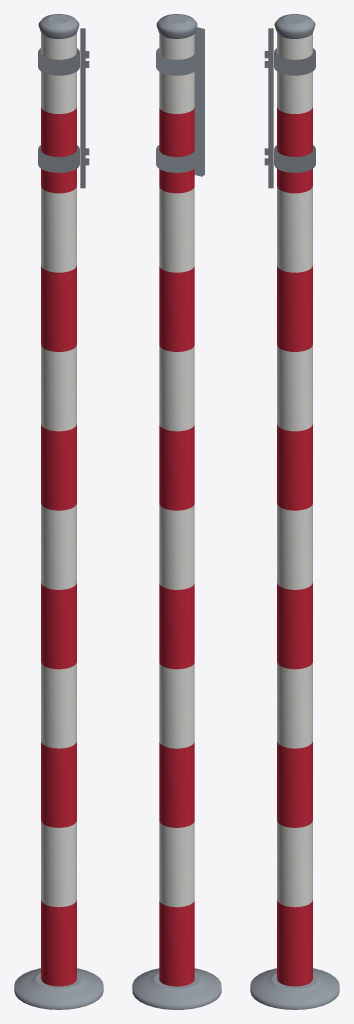
Rendered from sign-post.glb.
3 views of the same model, side by side, from view 1: azimuth 90°, elevation 25°; view 2: azimuth 150°, elevation 25°; view 3: azimuth 270°, elevation 25° (orthographic).
Parts seen in each view (by area): view 1: pole_red, pole_white, base_plate, bracket, cap; view 2: pole_red, pole_white, bracket, base_plate, cap; view 3: pole_red, pole_white, base_plate, bracket, cap.
Part boxes in pixels (left/top/right/bottom): pole_red: left=41, top=107, right=76, bottom=986; pole_white: left=41, top=33, right=76, bottom=907; base_plate: left=14, top=968, right=103, bottom=1009; bracket: left=38, top=28, right=89, bottom=188; cap: left=38, top=14, right=79, bottom=38; pole_red: left=159, top=108, right=194, bottom=986; pole_white: left=159, top=33, right=194, bottom=907; bracket: left=156, top=27, right=204, bottom=176; base_plate: left=132, top=968, right=221, bottom=1009; cap: left=156, top=14, right=197, bottom=38; pole_red: left=277, top=107, right=312, bottom=986; pole_white: left=277, top=33, right=312, bottom=907; base_plate: left=250, top=968, right=339, bottom=1009; bracket: left=264, top=28, right=315, bottom=188; cap: left=274, top=14, right=315, bottom=38.
Bounding box in the file's own units: 0.2 × 2.4 × 0.2.
